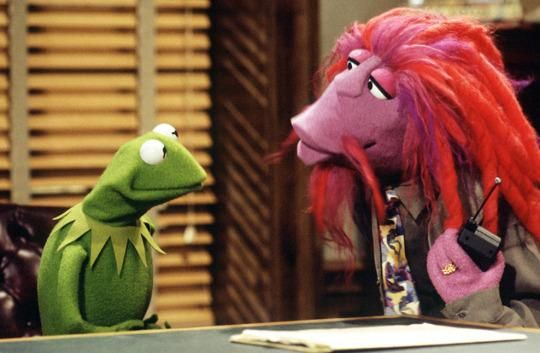kermit: (85, 121, 209, 223)
